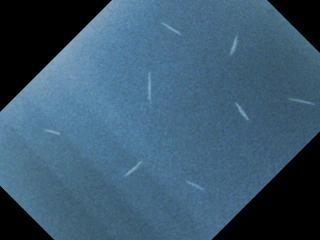scratch: (284, 93, 320, 109), (121, 158, 147, 180), (231, 98, 253, 124), (142, 68, 157, 104), (224, 32, 244, 58), (158, 20, 185, 37), (183, 177, 209, 194), (40, 125, 65, 139)
